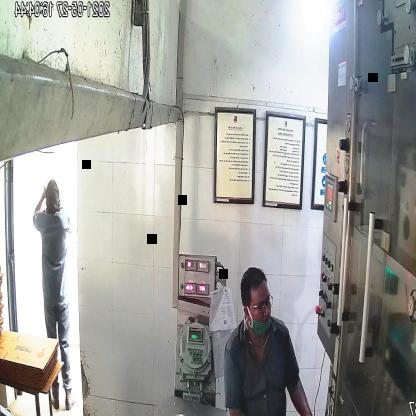goggles: (242, 292, 275, 320)
